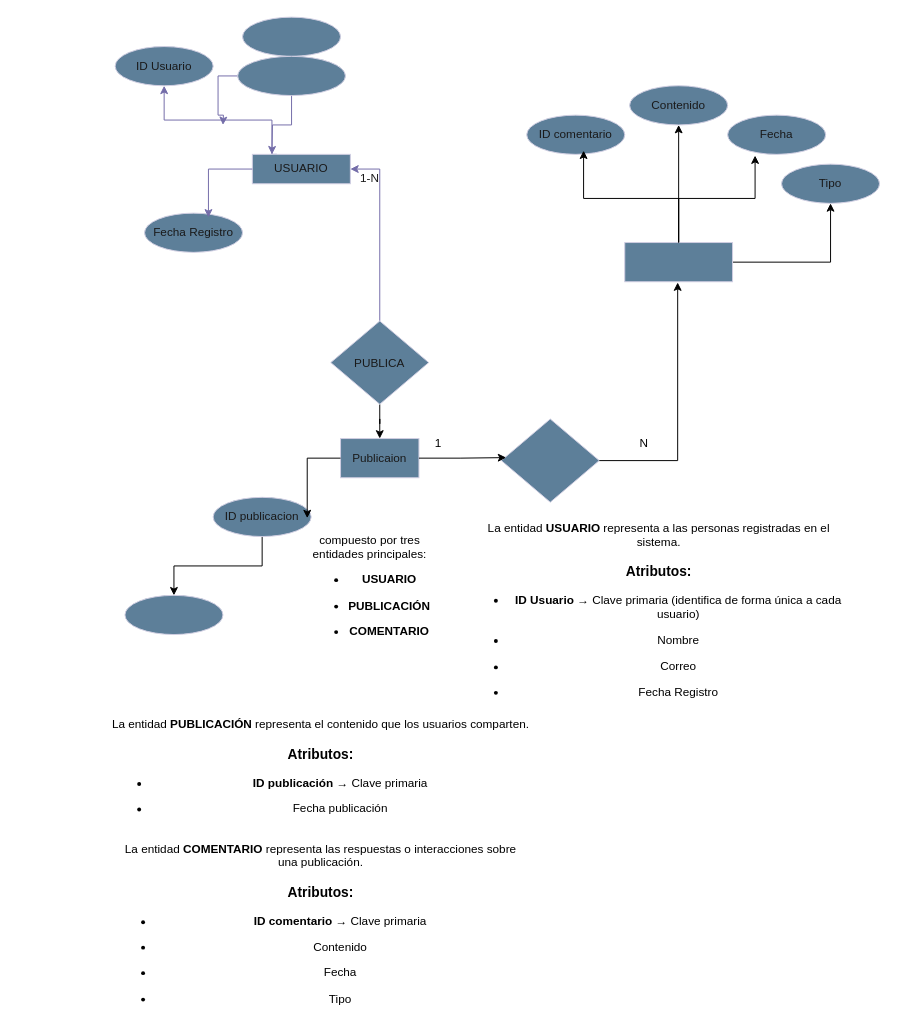
Some shapes in this 897 by 1034 pixel diagram are drawn without their labels. The centre of each missing label's shape, as x and y in pixels:
"COMETARIO" belongs at [678,262].
"Correo" belongs at [291,75].
"Fecha publicacion" belongs at [173,614].
"Nombre" belongs at [291,36].
"TIENE" belongs at [549,460].
